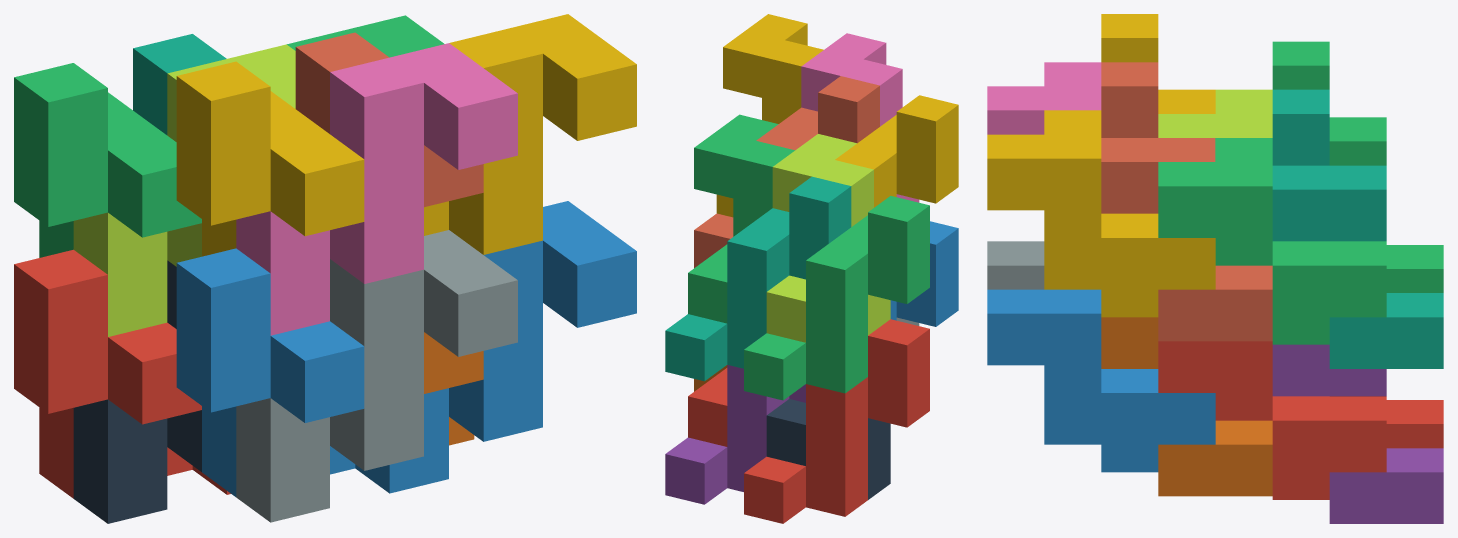
The model's file is tiling.obj.
3 renders of one model, left to right at view 1: azimuth 30°, elevation 25°; view 2: azimuth 150°, elevation 25°; view 3: azimuth 270°, elevation 25°, orthographic. The views are drawn at different scales.
Parts seen in each view (by area): view 1: copy_2_domain_4, copy_2_domain_2, copy_1_domain_2, copy_1_domain_4, copy_1_domain_1, copy_2_domain_6, copy_1_domain_3, copy_2_domain_8, copy_2_domain_1, copy_2_domain_3, copy_1_domain_8, copy_1_domain_7 (+2 smaller); view 2: copy_1_domain_3, copy_1_domain_1, copy_1_domain_7, copy_2_domain_7, copy_1_domain_4, copy_1_domain_5, copy_2_domain_3, copy_2_domain_8, copy_1_domain_8, copy_2_domain_4, copy_2_domain_1, copy_1_domain_2 (+1 smaller); view 3: copy_2_domain_8, copy_2_domain_6, copy_2_domain_7, copy_1_domain_7, copy_2_domain_5, copy_1_domain_8, copy_1_domain_5, copy_1_domain_6, copy_1_domain_3, copy_2_domain_4, copy_1_domain_4, copy_2_domain_3 (+2 smaller).
Part boxes in pixels (x1=…): copy_2_domain_4: x1=236, y1=43, x2=517, y2=335; copy_2_domain_2: x1=236, y1=230, x2=517, y2=522; copy_1_domain_2: x1=176, y1=248, x2=364, y2=496; copy_1_domain_4: x1=176, y1=61, x2=364, y2=256; copy_1_domain_1: x1=14, y1=249, x2=201, y2=498; copy_2_domain_6: x1=355, y1=201, x2=636, y2=493; copy_1_domain_3: x1=14, y1=63, x2=201, y2=257; copy_2_domain_8: x1=424, y1=14, x2=636, y2=254; copy_2_domain_1: x1=73, y1=260, x2=201, y2=523; copy_2_domain_3: x1=73, y1=44, x2=295, y2=336; copy_1_domain_8: x1=295, y1=32, x2=483, y2=207; copy_1_domain_7: x1=133, y1=34, x2=226, y2=134; copy_1_domain_3: x1=744, y1=196, x2=929, y2=400; copy_1_domain_1: x1=744, y1=319, x2=929, y2=523; copy_1_domain_7: x1=665, y1=176, x2=851, y2=381; copy_2_domain_7: x1=688, y1=114, x2=794, y2=323; copy_1_domain_4: x1=835, y1=95, x2=958, y2=207; copy_1_domain_5: x1=665, y1=365, x2=805, y2=504; copy_2_domain_3: x1=766, y1=134, x2=890, y2=342; copy_2_domain_8: x1=716, y1=14, x2=823, y2=217; copy_1_domain_8: x1=694, y1=76, x2=879, y2=267; copy_2_domain_4: x1=801, y1=33, x2=919, y2=202; copy_2_domain_1: x1=766, y1=399, x2=890, y2=499; copy_1_domain_2: x1=890, y1=221, x2=958, y2=326; copy_2_domain_8: x1=987, y1=110, x2=1215, y2=317; copy_2_domain_6: x1=987, y1=289, x2=1215, y2=472; copy_2_domain_7: x1=1158, y1=138, x2=1386, y2=344; copy_1_domain_7: x1=1272, y1=89, x2=1443, y2=368; copy_2_domain_5: x1=1158, y1=341, x2=1386, y2=499; copy_1_domain_8: x1=1101, y1=62, x2=1272, y2=341; copy_1_domain_5: x1=1272, y1=344, x2=1443, y2=523; copy_1_domain_6: x1=1101, y1=317, x2=1272, y2=496; copy_1_domain_3: x1=1272, y1=41, x2=1443, y2=292; copy_2_domain_4: x1=987, y1=62, x2=1101, y2=134; copy_1_domain_4: x1=1101, y1=14, x2=1215, y2=113; copy_2_domain_3: x1=1158, y1=89, x2=1272, y2=137.
Bounding box in the file's own units: 7 × 8 × 8.
